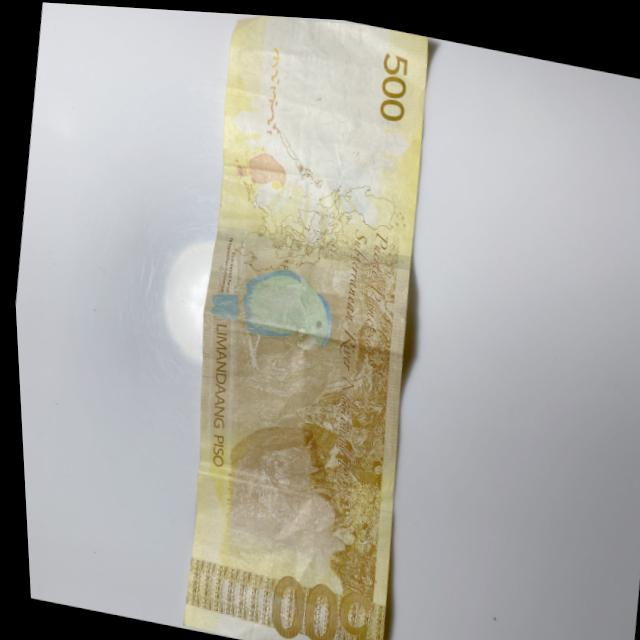500_big_parrot: (198, 248, 336, 361)
500_parrot_watermark: (228, 136, 290, 199)
value_watermark: (296, 37, 331, 68)
